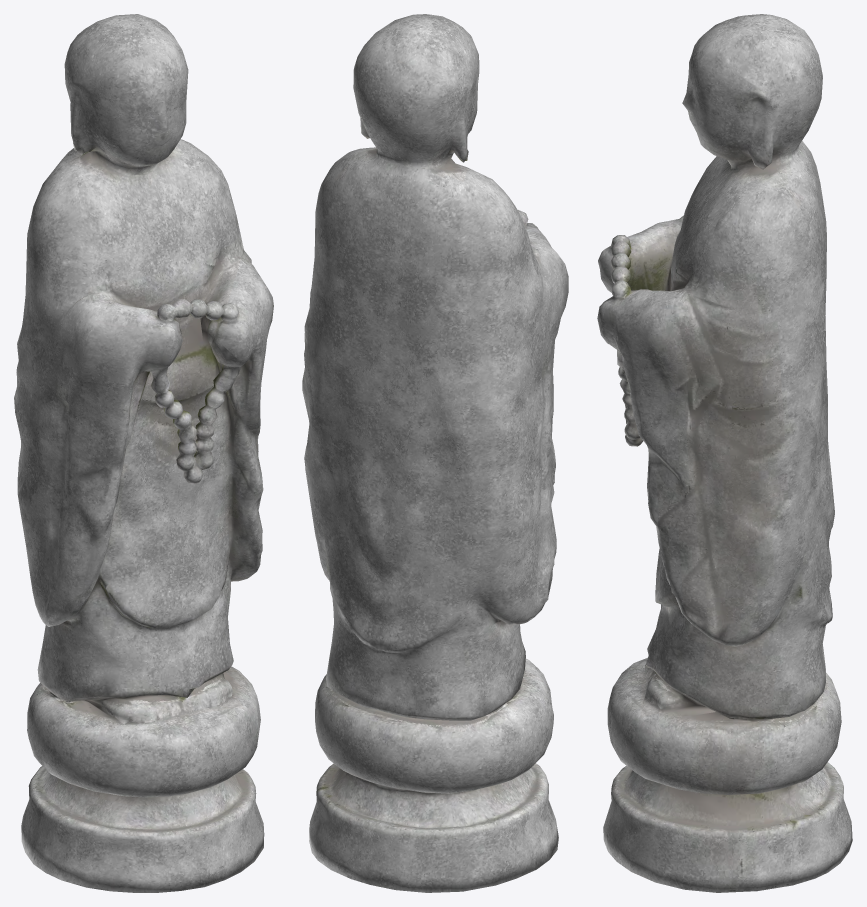
File: arhat-kasa-1.glb
The picture shows the model from 3 angles, left to right: view 1: azimuth 30°, elevation 25°; view 2: azimuth 150°, elevation 25°; view 3: azimuth 270°, elevation 25°; orthographic projection. The views are drawn at different scales.
Parts seen in each view (by area): view 1: arhat-kasa-1-low; view 2: arhat-kasa-1-low; view 3: arhat-kasa-1-low.
Boxes of the visible parts, left/top/right/bottom form: arhat-kasa-1-low: left=14, top=14, right=273, bottom=892; arhat-kasa-1-low: left=302, top=14, right=568, bottom=892; arhat-kasa-1-low: left=597, top=14, right=852, bottom=892.
Bounding box in the file's own units: 0.2734 × 1 × 0.282.
Materials: 1 (1 with a texture image).
